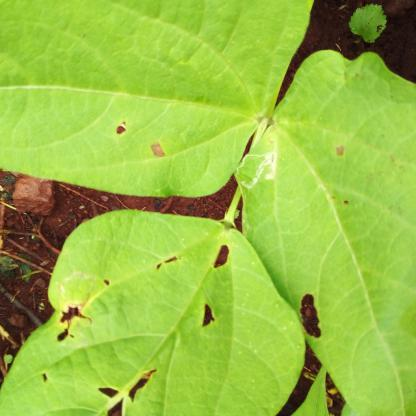Beans_Angular_LeafSpot: (236, 55, 412, 416), (4, 209, 301, 416), (0, 0, 311, 194)
